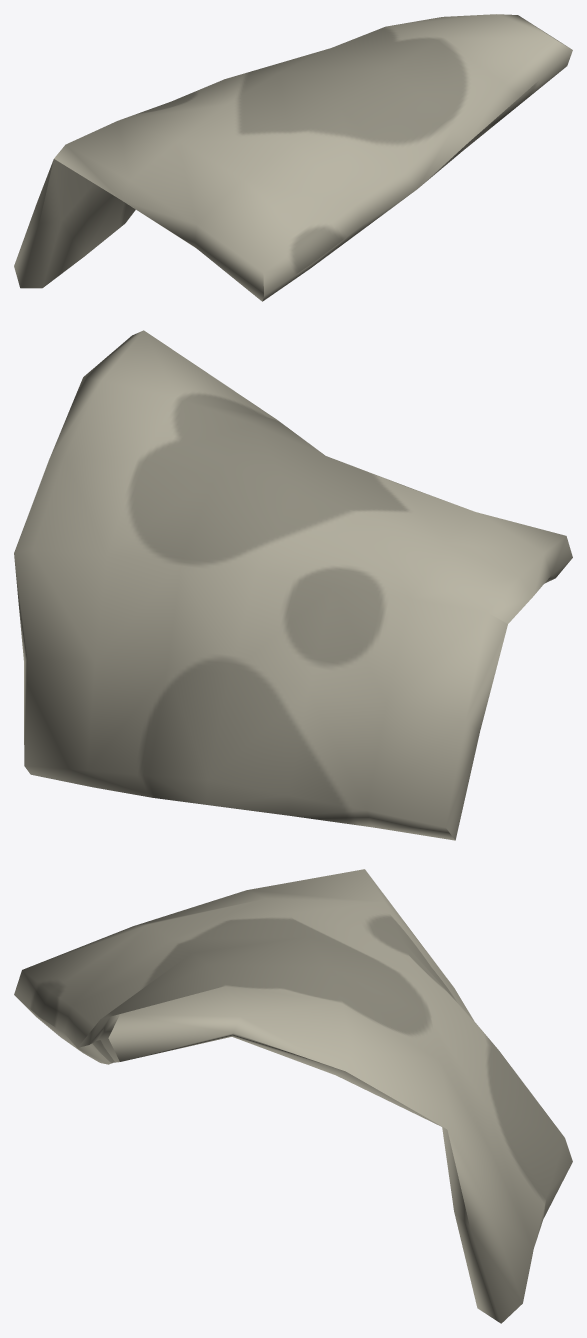
File: p_mesh_destruct_toiletpaper_pose0.fbx
The picture shows the model from 3 angles, top to bottom: view 1: azimuth 30°, elevation 25°; view 2: azimuth 150°, elevation 25°; view 3: azimuth 270°, elevation 25°; orthographic projection. The views are drawn at different scales.
Visible parts, largest first — view 1: hammer_bubblewrap_blendshape_pose0; view 2: hammer_bubblewrap_blendshape_pose0; view 3: hammer_bubblewrap_blendshape_pose0.
Boxes of the visible parts, x1=… form: hammer_bubblewrap_blendshape_pose0: x1=14, y1=14, x2=572, y2=301; hammer_bubblewrap_blendshape_pose0: x1=14, y1=330, x2=572, y2=840; hammer_bubblewrap_blendshape_pose0: x1=14, y1=869, x2=572, y2=1323.
Size of the model in its own units: 1.81 by 1.09 by 1.61.
